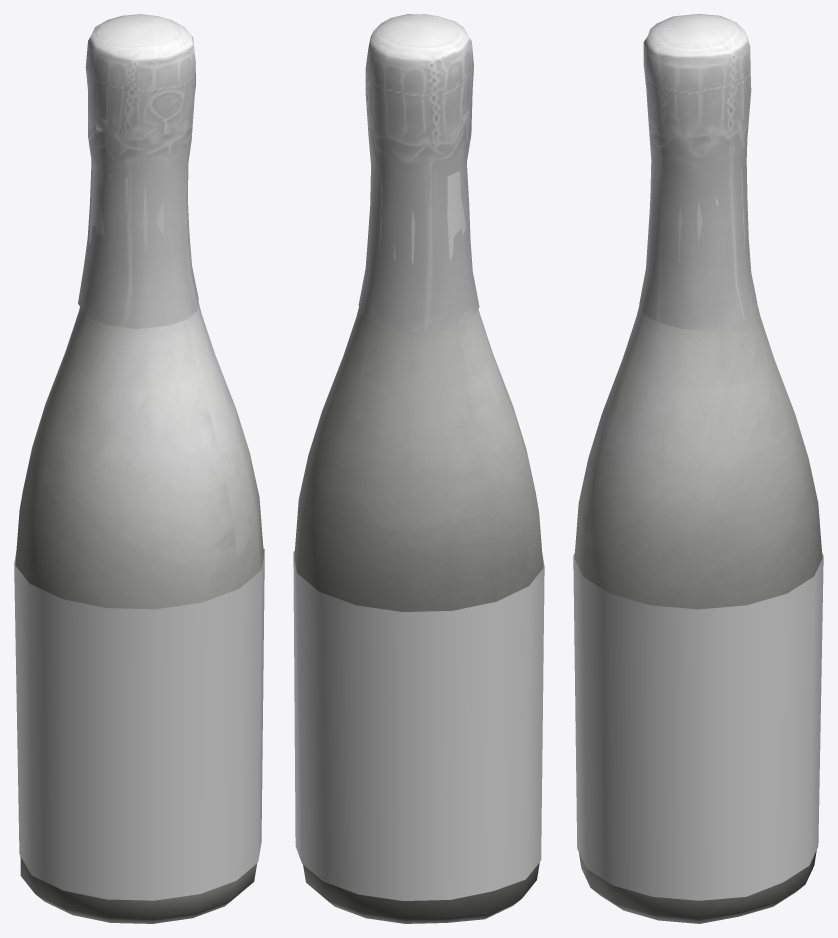
File: ECOVA_CLASSIQUE_750cl.glb
3 views of the same model, side by side, from view 1: azimuth 30°, elevation 25°; view 2: azimuth 150°, elevation 25°; view 3: azimuth 270°, elevation 25° (orthographic).
Visible parts, largest first — view 1: label, bottiglia, champagneAluminium, longWax; view 2: label, bottiglia, champagneAluminium, longWax; view 3: label, bottiglia, champagneAluminium.
Part boxes in pixels (x1,y1,x2,y2): label: (14, 548, 264, 900); bottiglia: (15, 302, 263, 923); champagneAluminium: (78, 14, 198, 328); longWax: (89, 117, 188, 260); label: (293, 550, 544, 900); bottiglia: (294, 307, 543, 923); champagneAluminium: (358, 14, 479, 332); longWax: (379, 111, 469, 265); label: (573, 553, 823, 900); bottiglia: (574, 305, 822, 923); champagneAluminium: (639, 14, 757, 330).
Bounding box in the file's own units: 0.0785 × 0.2921 × 0.0776.
Materials: 8 (4 with a texture image).
